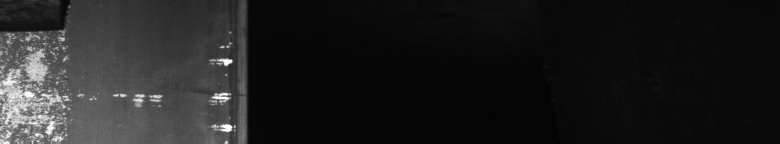kb: (4, 4, 236, 136)
